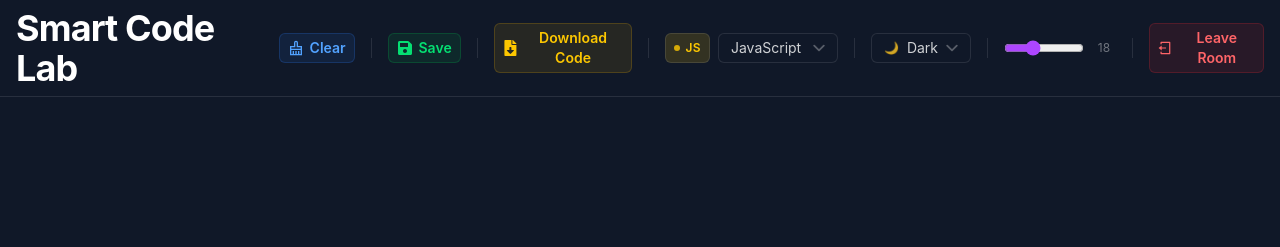
it: Navbar — language dropdown › opens language dropdown when language button is clicked
Note: Language button is the trigger next to LanguageBadge
Click the button "JavaScript": (778, 48) [718,33,838,63]
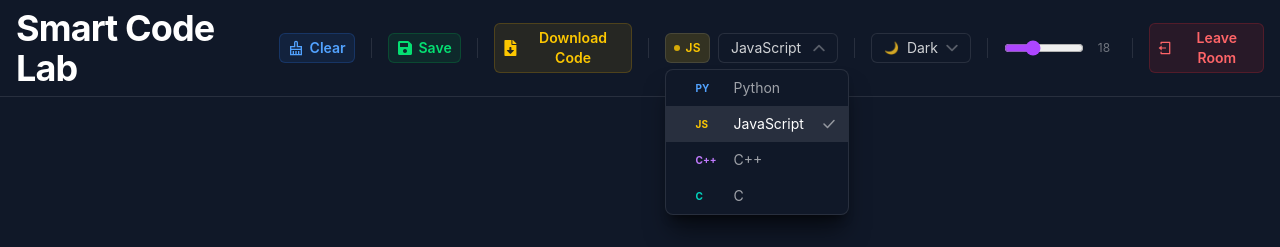
Now the text "Python" is shown, box [734,78,780,98]
Now the button named "C++C++" is shown, box [666,142,848,178]
Now the button named "CC" is shown, box [666,178,848,214]
